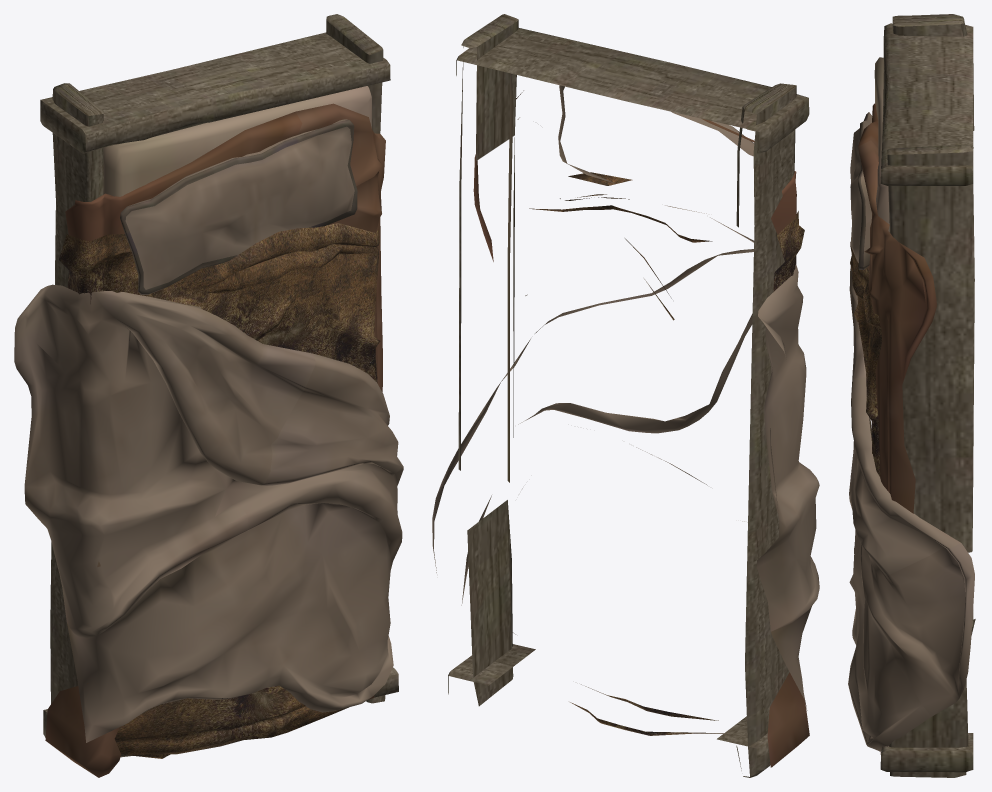
File: ACK_CWL_Bed_Single_Norse_LC_01a_LOD0-transformed.glb
3 renders of one model, left to right at view 1: azimuth 30°, elevation 25°; view 2: azimuth 150°, elevation 25°; view 3: azimuth 270°, elevation 25°, orthographic. The views are drawn at different scales.
Parts seen in each view (by area): view 1: ACK_CWL_Bed_Single_Norse_LC_01a_LOD0; view 2: ACK_CWL_Bed_Single_Norse_LC_01a_LOD0; view 3: ACK_CWL_Bed_Single_Norse_LC_01a_LOD0.
Boxes of the visible parts, box(x1,y1,x2,y2) form: ACK_CWL_Bed_Single_Norse_LC_01a_LOD0: box(14, 14, 403, 777); ACK_CWL_Bed_Single_Norse_LC_01a_LOD0: box(432, 14, 819, 777); ACK_CWL_Bed_Single_Norse_LC_01a_LOD0: box(848, 14, 975, 777).
Bounding box in the file's own units: 0.012 × 0.0214 × 0.004.
Materials: 3 (3 with a texture image).
